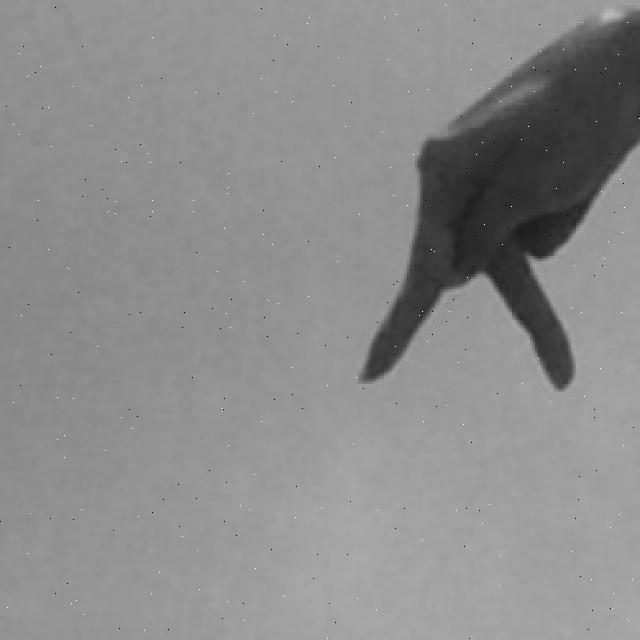P: (345, 0, 640, 402)
